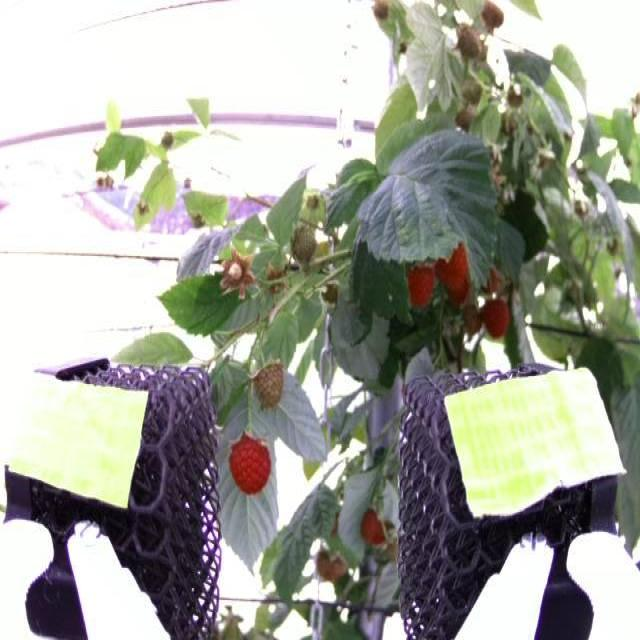Riped berries: (222, 424, 278, 494), (401, 257, 438, 308), (438, 241, 473, 294), (478, 292, 511, 342), (357, 506, 388, 550)
